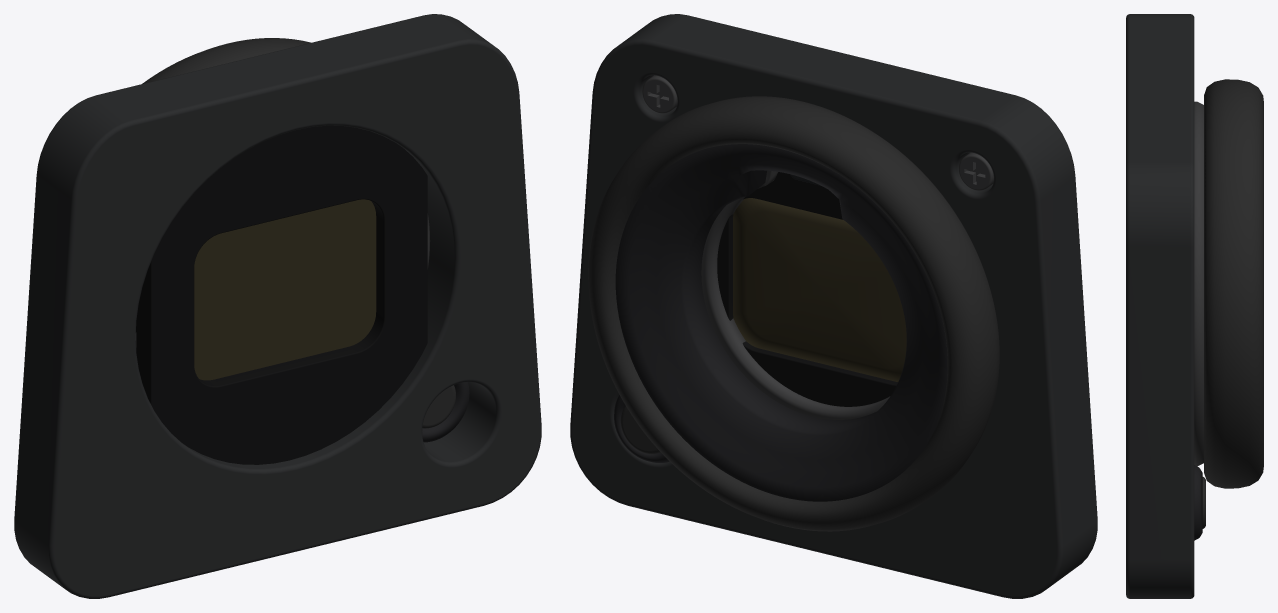
Rendered from nikon-dk33.glb.
The picture shows the model from 3 angles, left to right: view 1: azimuth 30°, elevation 25°; view 2: azimuth 150°, elevation 25°; view 3: azimuth 270°, elevation 25°; orthographic projection. The views are drawn at different scales.
Parts seen in each view (by area): view 1: Weather-sealed eyepiece carrier, Ocular recess with clear sensor seat, Coated rectangular ocular with curved front surface, DK-33 rolled elastomer eye contact rim, Eyepiece release button surround, Eyepiece release plunger; view 2: Weather-sealed eyepiece carrier, DK-33 keyed polymer insert and sensor clearance, DK-33 rolled elastomer eye contact rim, Coated rectangular ocular with curved front surface, Ocular recess with clear sensor seat, Eyepiece receiver and ocular aperture, Two recessed black cross-head fixings, Eyepiece release plunger, Eyepiece release button surround; view 3: Weather-sealed eyepiece carrier, DK-33 rolled elastomer eye contact rim, Eyepiece receiver and ocular aperture, Eyepiece release button surround, Eyepiece release plunger.
Boxes of the visible parts, box(x1,y1,x2,y2) form: Weather-sealed eyepiece carrier: box(14, 14, 541, 598); Ocular recess with clear sensor seat: box(136, 125, 427, 464); Coated rectangular ocular with curved front surface: box(194, 199, 376, 380); DK-33 rolled elastomer eye contact rim: box(142, 38, 310, 83); Eyepiece release button surround: box(422, 382, 469, 442); Eyepiece release plunger: box(422, 385, 455, 428); Weather-sealed eyepiece carrier: box(570, 14, 1097, 598); DK-33 keyed polymer insert and sensor clearance: box(615, 144, 947, 501); DK-33 rolled elastomer eye contact rim: box(588, 96, 999, 531); Coated rectangular ocular with curved front surface: box(733, 198, 906, 381); Ocular recess with clear sensor seat: box(717, 172, 897, 406); Eyepiece receiver and ocular aperture: box(701, 170, 890, 419); Two recessed black cross-head fixings: box(642, 75, 993, 190); Eyepiece release plunger: box(620, 406, 660, 454); Eyepiece release button surround: box(614, 395, 669, 462); Weather-sealed eyepiece carrier: box(1126, 14, 1194, 598); DK-33 rolled elastomer eye contact rim: box(1204, 79, 1263, 488); Eyepiece receiver and ocular aperture: box(1194, 101, 1203, 466); Eyepiece release button surround: box(1194, 465, 1202, 540); Eyepiece release plunger: box(1202, 477, 1205, 528).
Size of the model in its own units: 0.0453 by 0.0414 by 0.0123.
